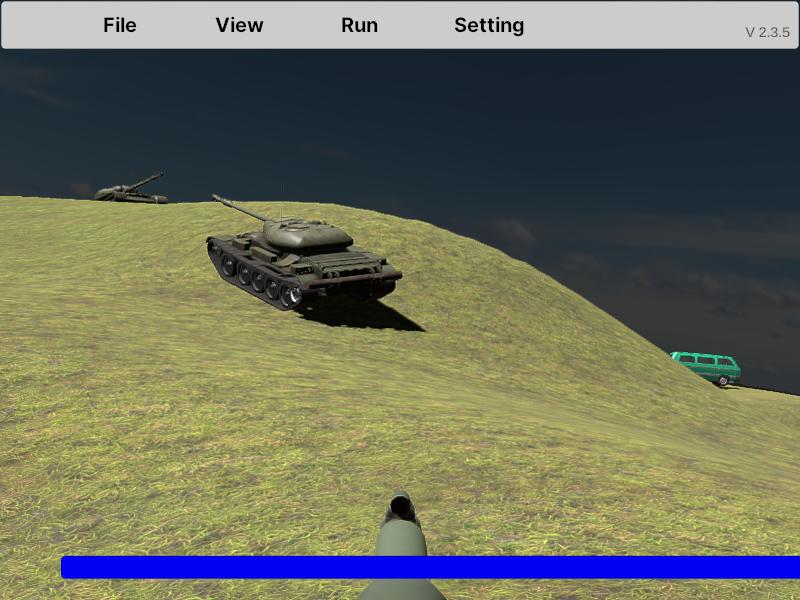Tank: (207, 196, 403, 312)
car: (670, 351, 741, 389)
